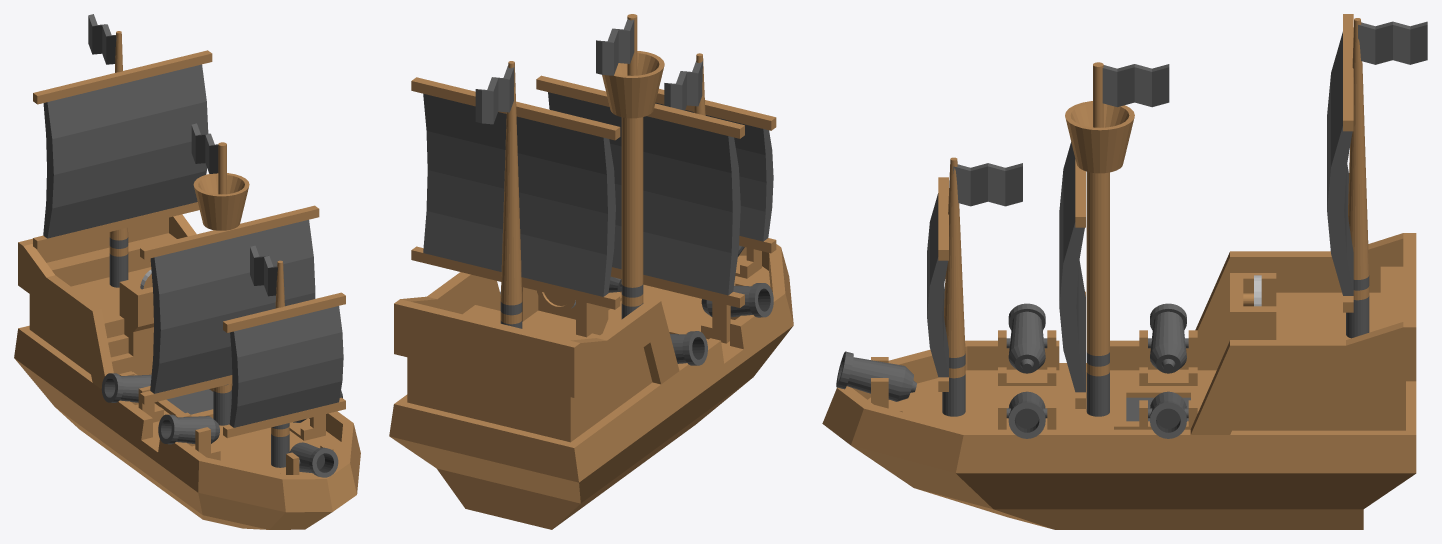
File: Pirateship.obj
The picture shows the model from 3 angles, left to right: view 1: azimuth 30°, elevation 25°; view 2: azimuth 150°, elevation 25°; view 3: azimuth 270°, elevation 25°; orthographic projection. The views are drawn at different scales.
Visible parts, largest first — view 1: Mesh22, Mesh15, Mesh12, Mesh19, Mesh16, Mesh14, Mesh9, Mesh13, Mesh3, Mesh7, Mesh20, Mesh18 (+5 smaller); view 2: Mesh22, Mesh15, Mesh12, Mesh19, Mesh13, Mesh14, Mesh16, Mesh18, Mesh17, Mesh21, Mesh9, Mesh7 (+3 smaller); view 3: Mesh22, Mesh13, Mesh15, Mesh12, Mesh14, Mesh20, Mesh16, Mesh19, Mesh18, Mesh17, Mesh21, Mesh9 (+7 smaller).
Boxes of the visible parts, x1,y1,x2,y2 form: Mesh22: (14,214,360,529); Mesh15: (33,50,212,249); Mesh12: (140,205,319,404); Mesh19: (223,292,345,437); Mesh16: (193,173,249,230); Mesh14: (109,31,128,287); Mesh9: (158,414,219,444); Mesh13: (213,142,231,425); Mesh3: (289,442,338,477); Mesh7: (101,373,151,402); Mesh20: (271,260,289,467); Mesh18: (88,14,116,64); Mesh22: (389,244,793,529); Mesh15: (411,77,620,309); Mesh12: (536,75,744,307); Mesh19: (655,88,776,253); Mesh13: (621,14,643,319); Mesh14: (500,61,522,328); Mesh16: (602,51,664,118); Mesh18: (475,65,514,124); Mesh17: (596,19,634,75); Mesh21: (664,61,702,110); Mesh9: (701,283,773,317); Mesh7: (670,331,707,365); Mesh22: (822,233,1416,529); Mesh13: (1086,62,1109,416); Mesh15: (1327,14,1353,312); Mesh12: (1059,142,1085,408); Mesh14: (1346,18,1369,338); Mesh20: (942,157,965,416); Mesh16: (1065,101,1134,173); Mesh19: (927,177,948,391); Mesh18: (1358,21,1427,64); Mesh17: (1102,64,1169,107); Mesh21: (953,163,1022,206); Mesh9: (1008,303,1045,373).
Size of the model in its own units: 3.77 by 8.01 by 9.
